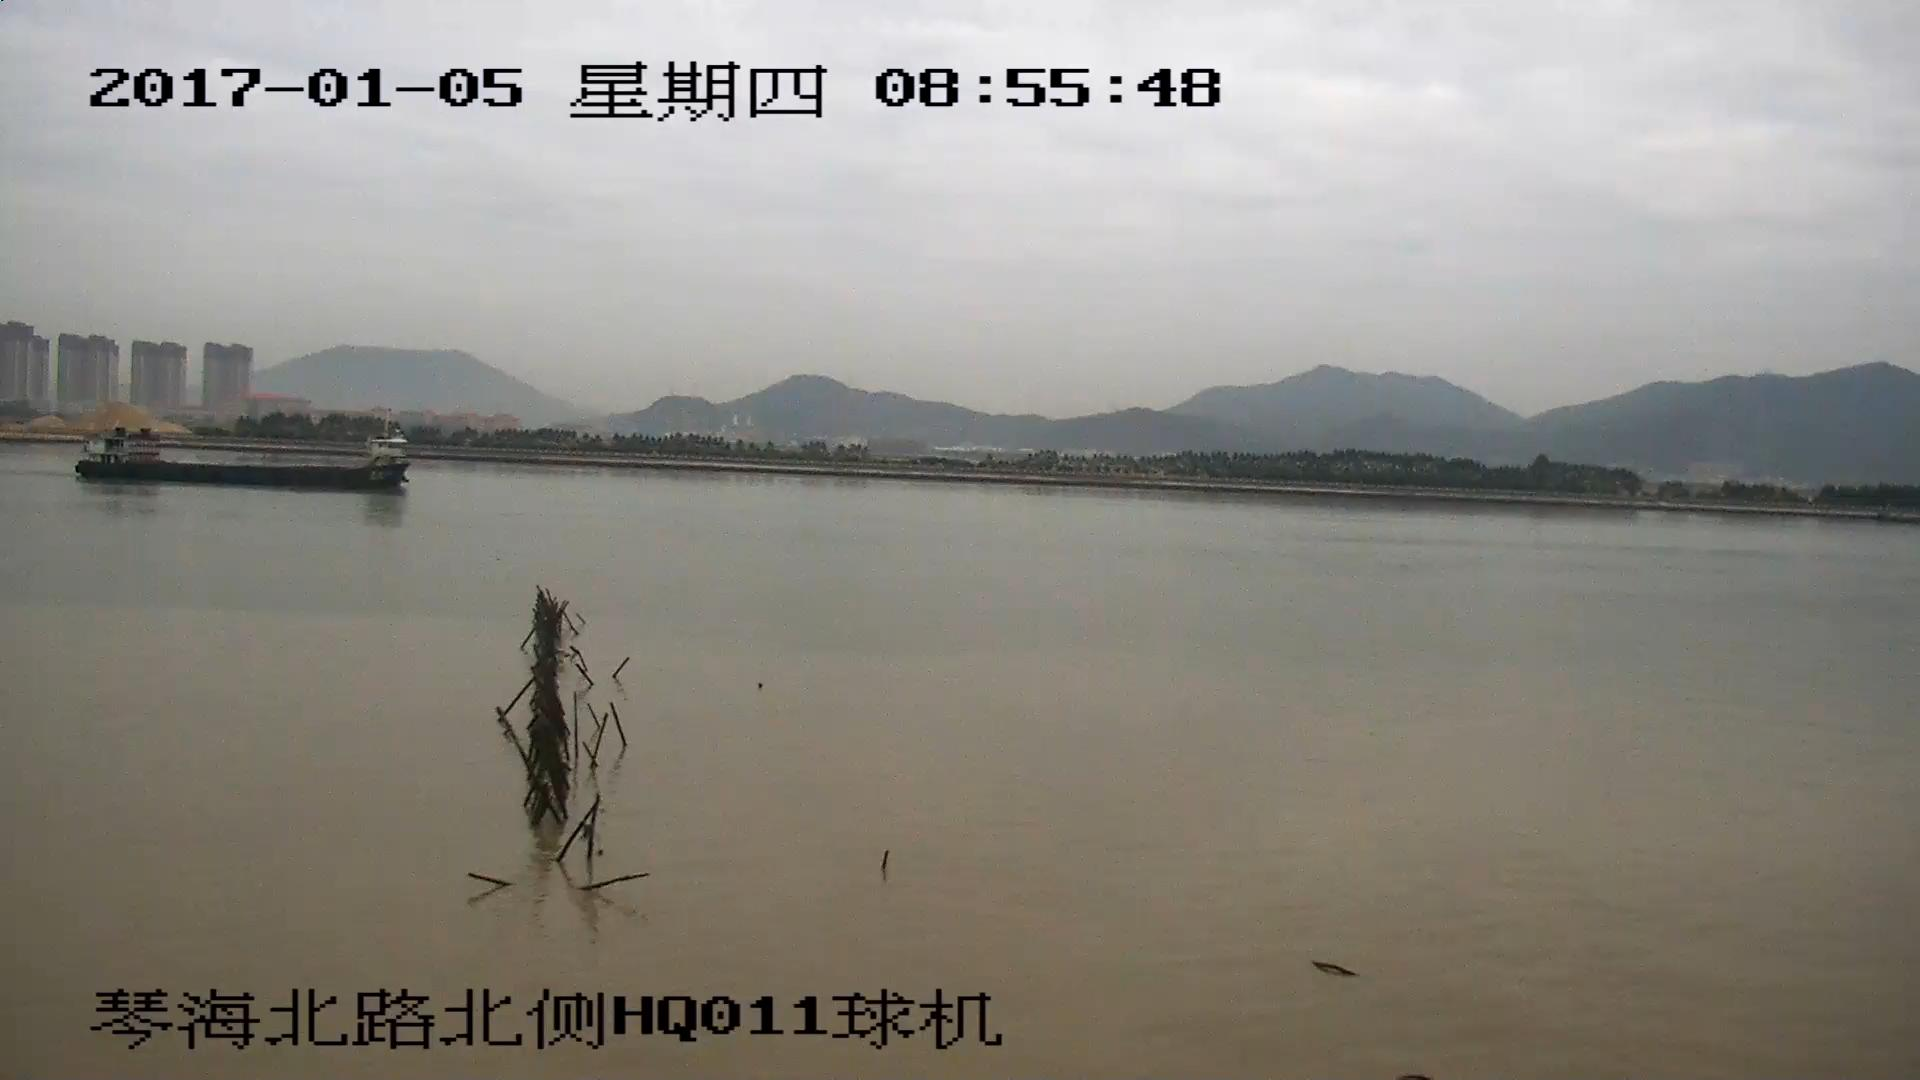general cargo ship: (78, 426, 412, 494)
